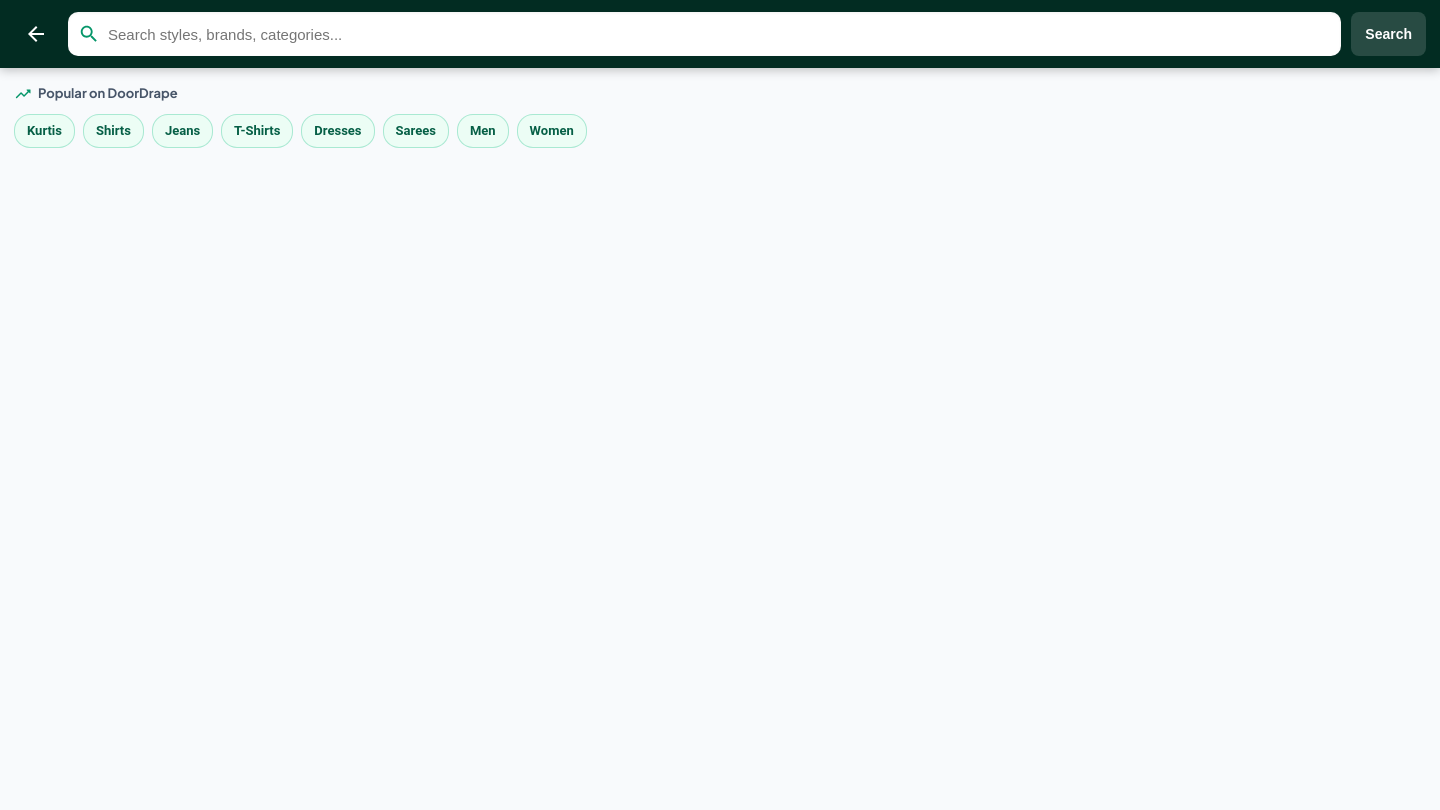
it: MobileSearchOverlay Component › tapping popular search chip sets query and filters after debounce
What coordinates should you click on to do the following:
click the button "Shirts"
I would click on:
 (113, 130)
Its box is [83,114,144,148].
Wait 400 ms
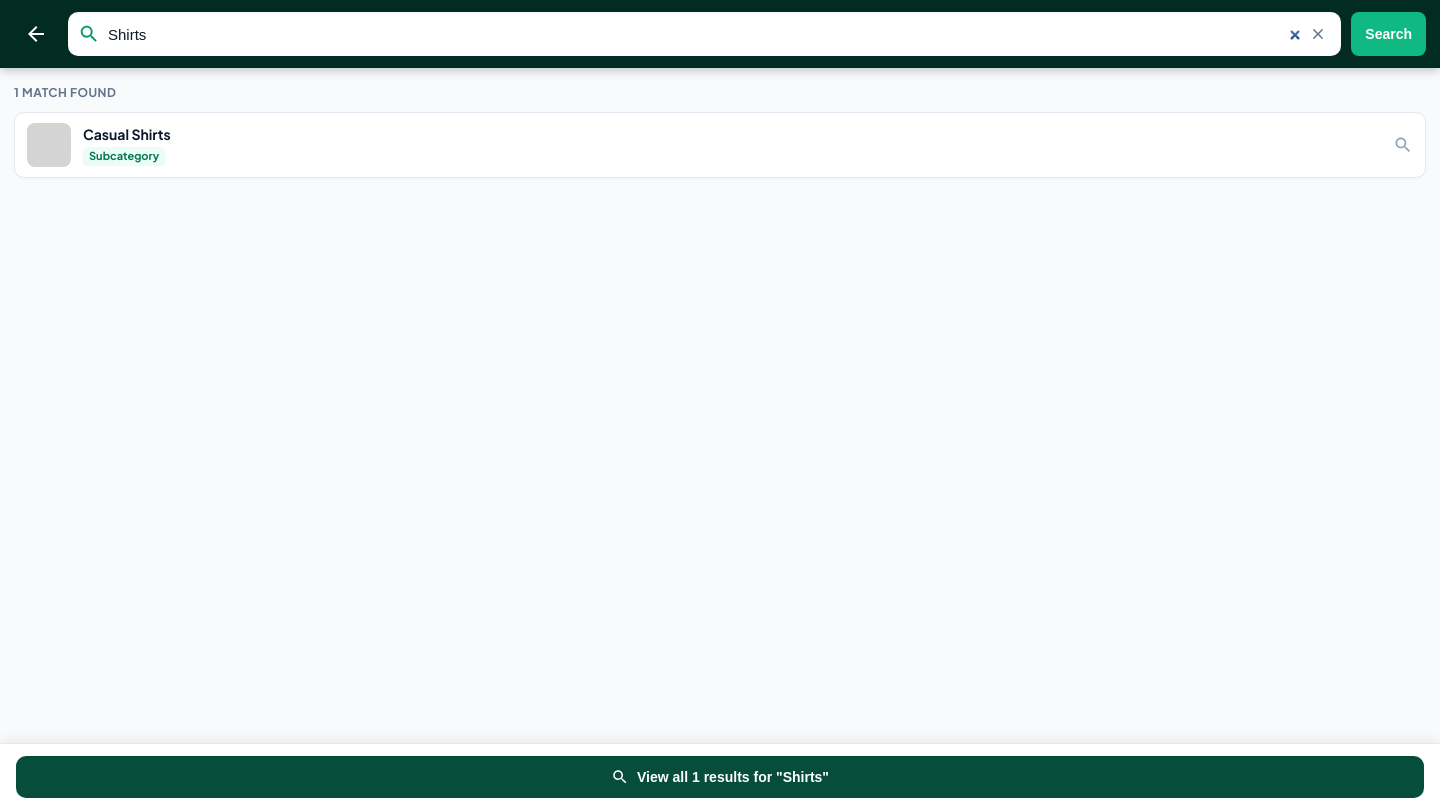
Expected: the search field with test id "mobile-search-input" holds "Shirts", [106,24,1305,44]
Expected: the text "Casual Shirts" is shown, [83,125,171,143]
